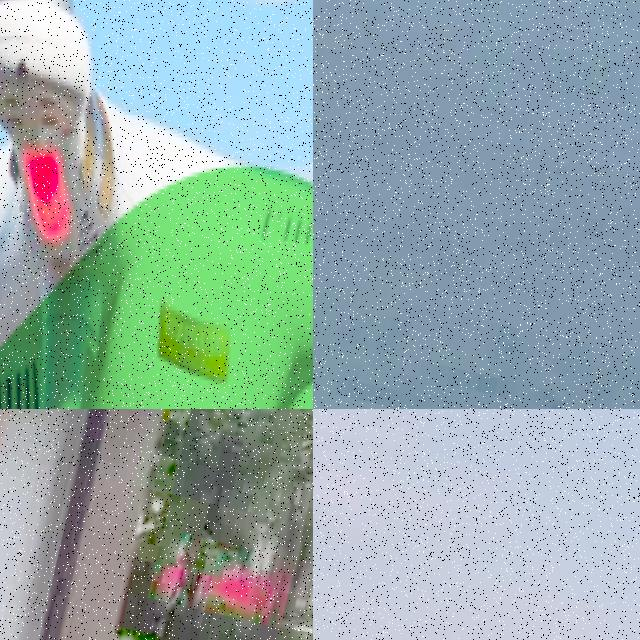drone: (0, 0, 313, 409)
